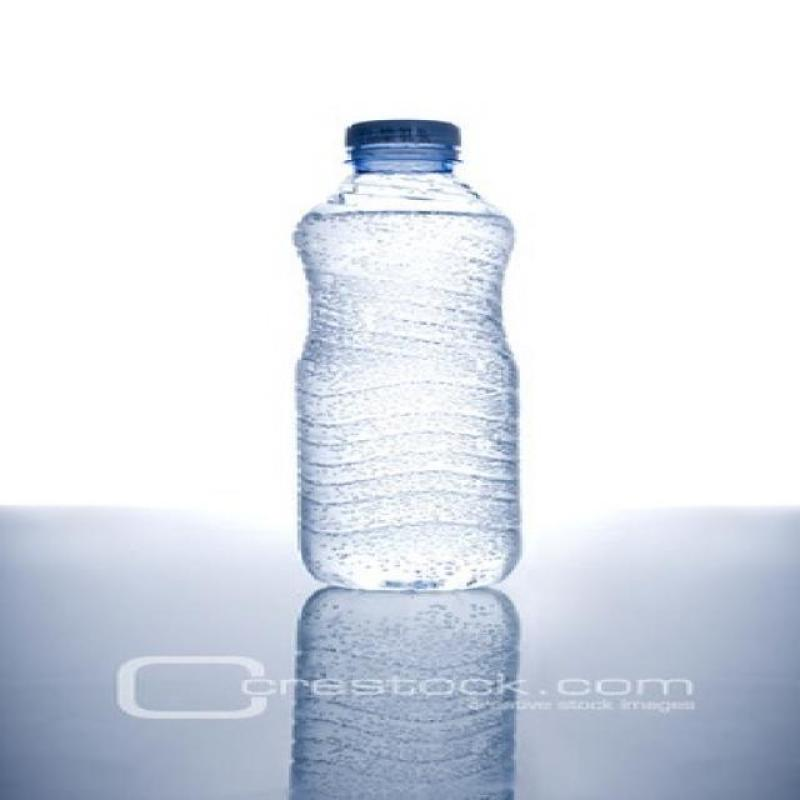botella: (292, 120, 520, 591)
